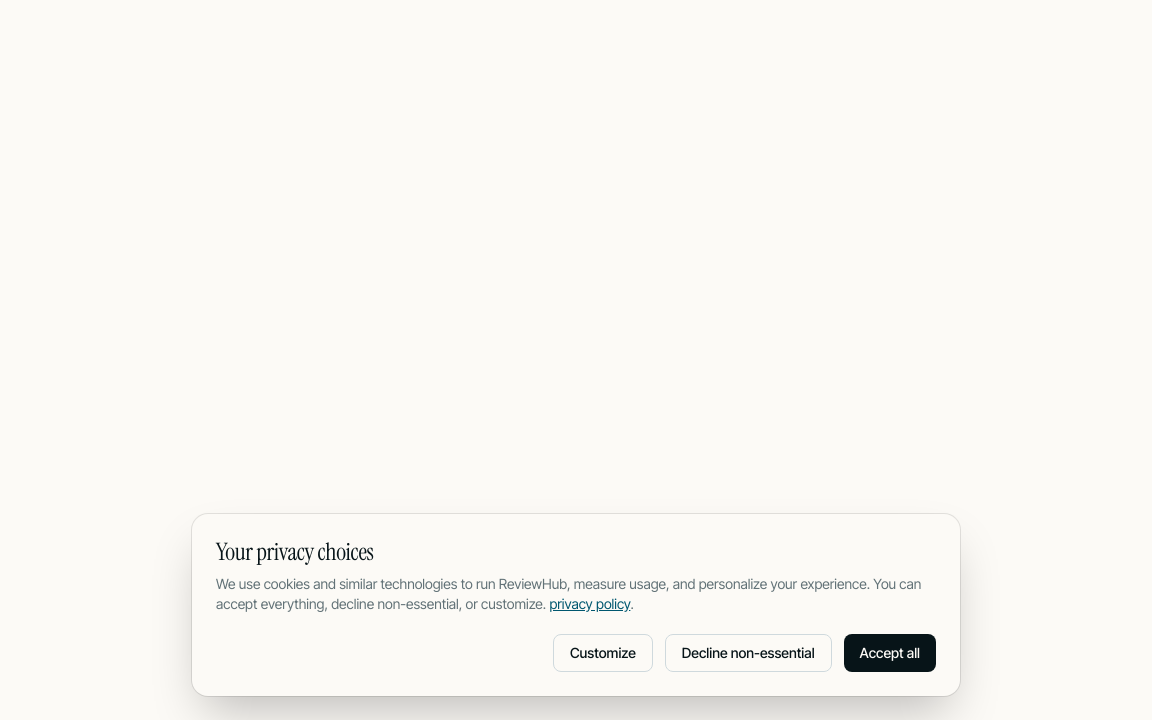
Scenario: CookieConsent › shows the customize panel when Customize is clicked, with essential locked on
Click the button "Customize": (603,653) [553, 634, 653, 672]
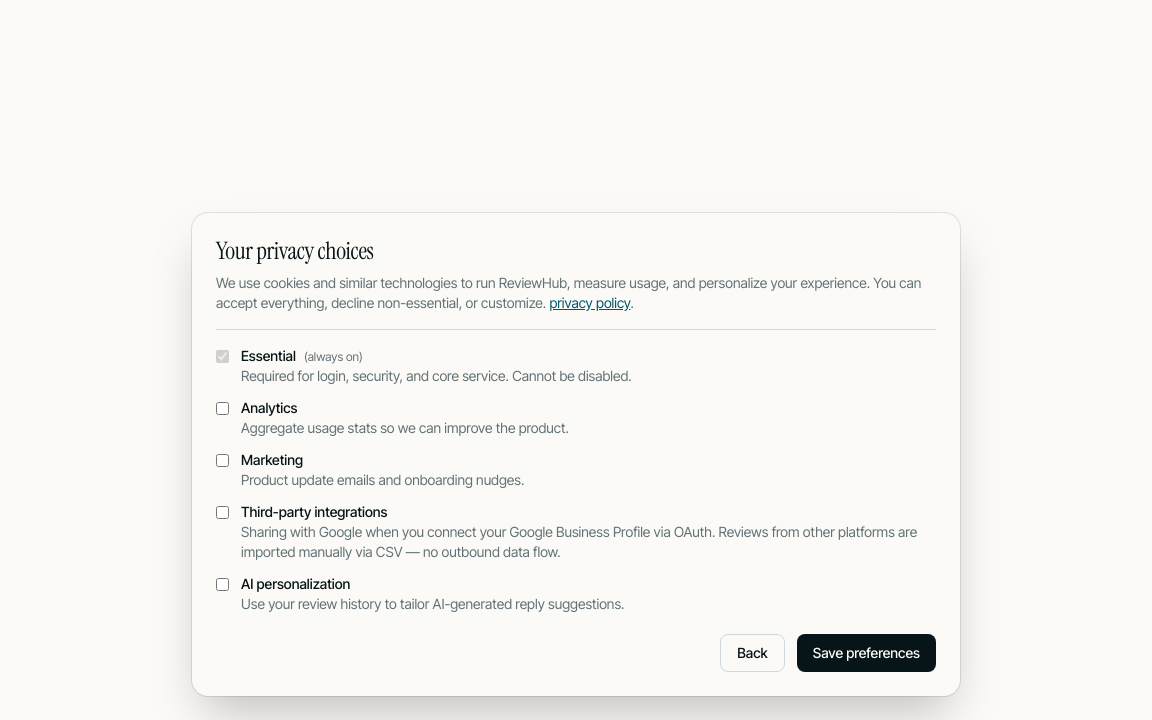
Now the checkbox labelled "Essential" is checked, box [216, 350, 229, 363]
Now the checkbox labelled "Essential" is disabled, box [216, 350, 229, 363]
